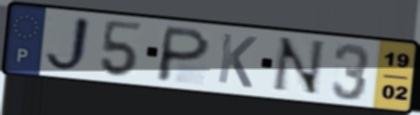3: (330, 40, 372, 103)
5: (97, 17, 143, 79)
J: (41, 14, 94, 75)
K: (214, 31, 259, 91)
N: (267, 35, 328, 98)
P: (152, 24, 214, 84)
